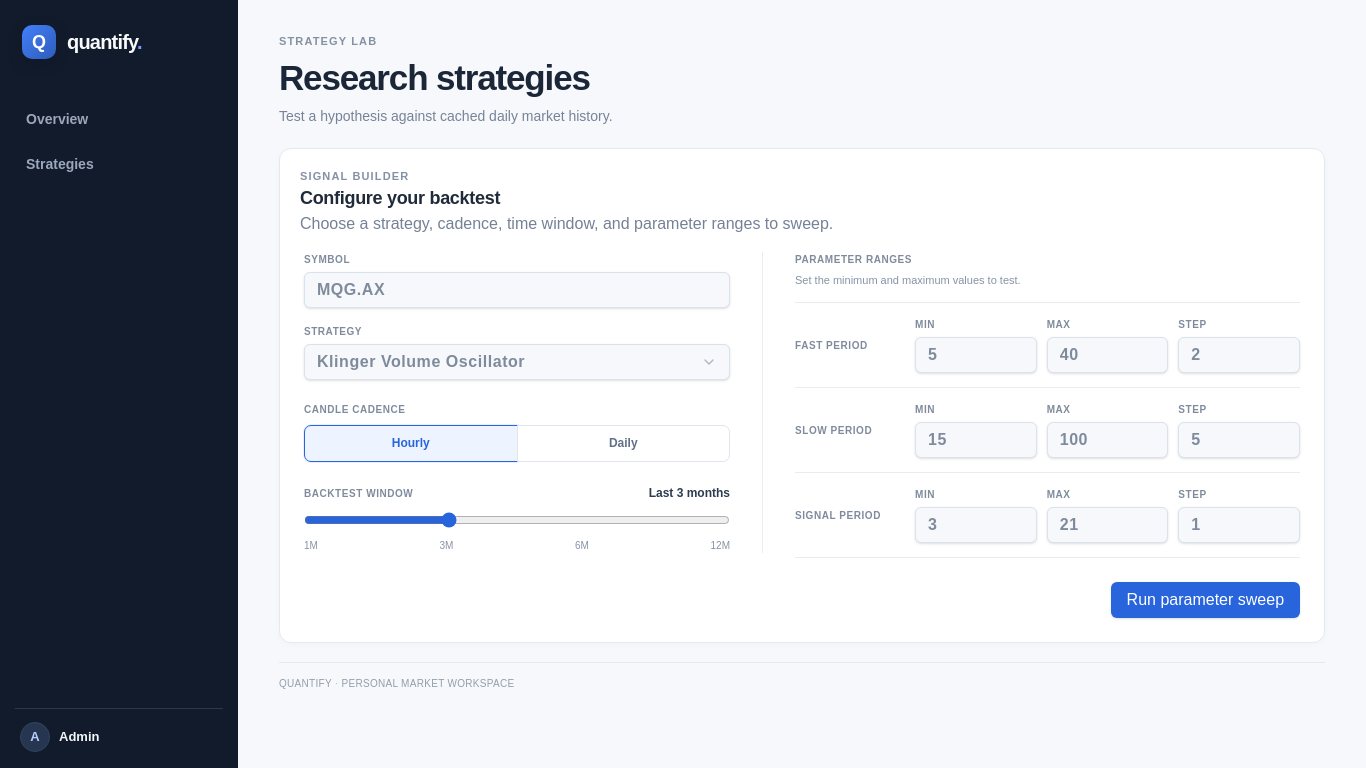
Test: ResearchPage › requires a non-negative step
The width and height of the screenshot is (1366, 768).
Replace the text in the number field named "Fast period step" with "-1" at (1239, 355), box [1178,337,1300,373]
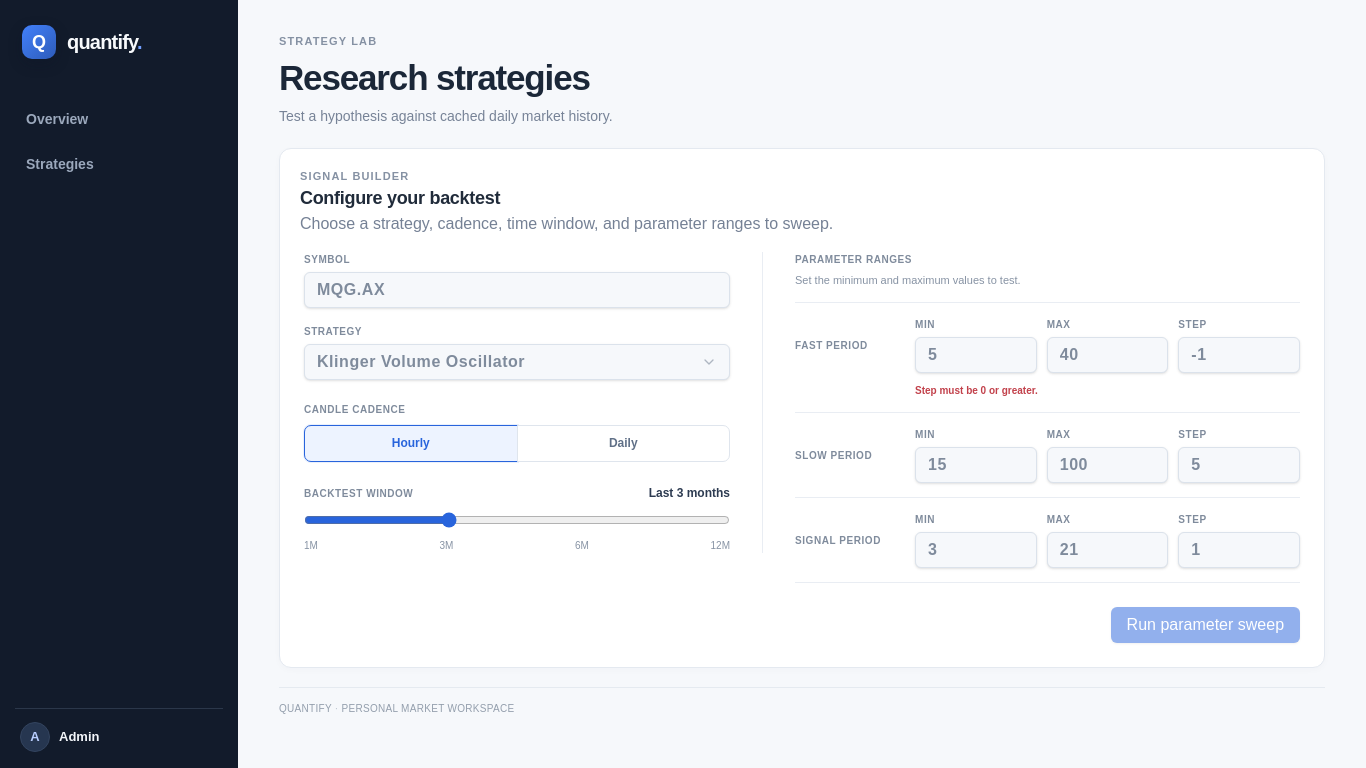
Result: the button "Run parameter sweep" is disabled at [1111,607,1300,643]
Leave the number field named "Fast period step", box [1178,337,1300,373]
Result: the text "Step must be 0 or greater." is shown at [915,385,1038,396]
Replace the text in the number field named "Fast period step" with "0" at (1239, 355), box [1178,337,1300,373]
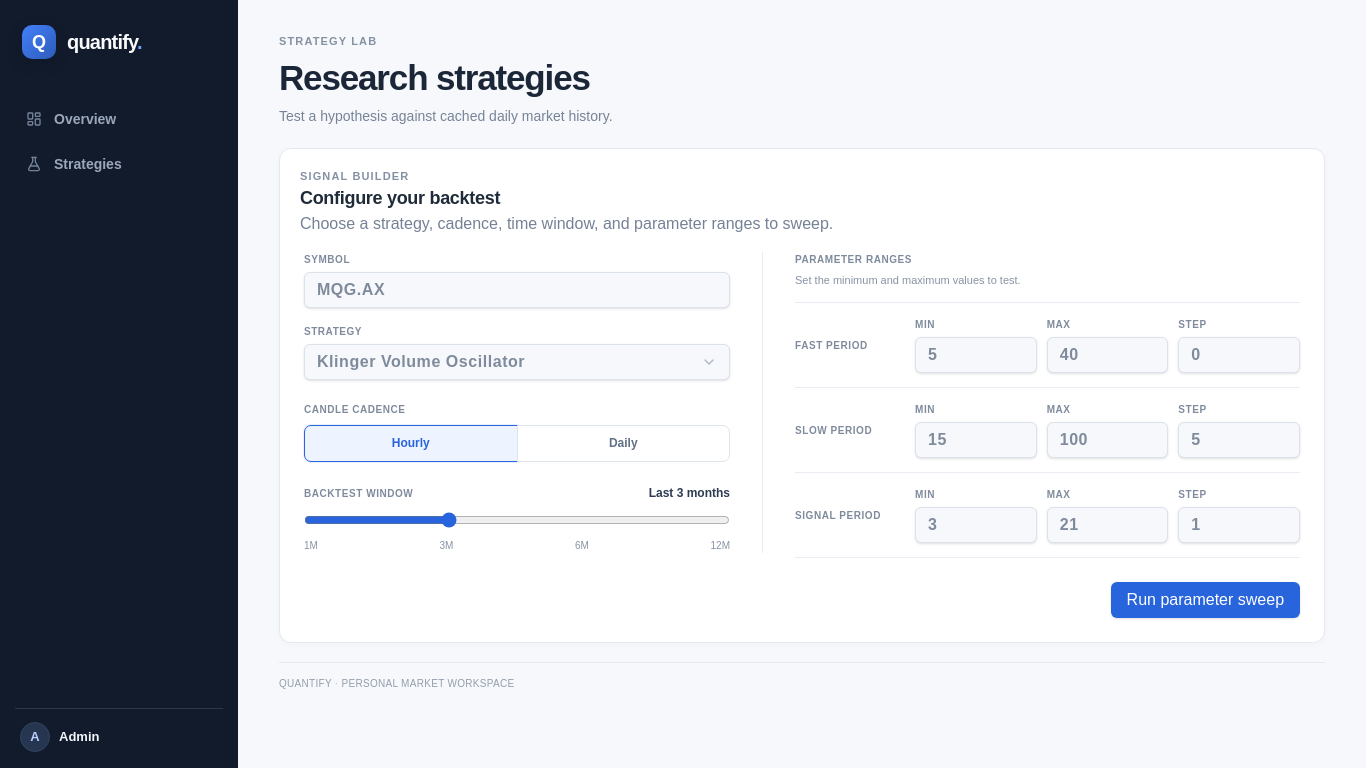
Result: the button "Run parameter sweep" is enabled at [1111,582,1300,618]
